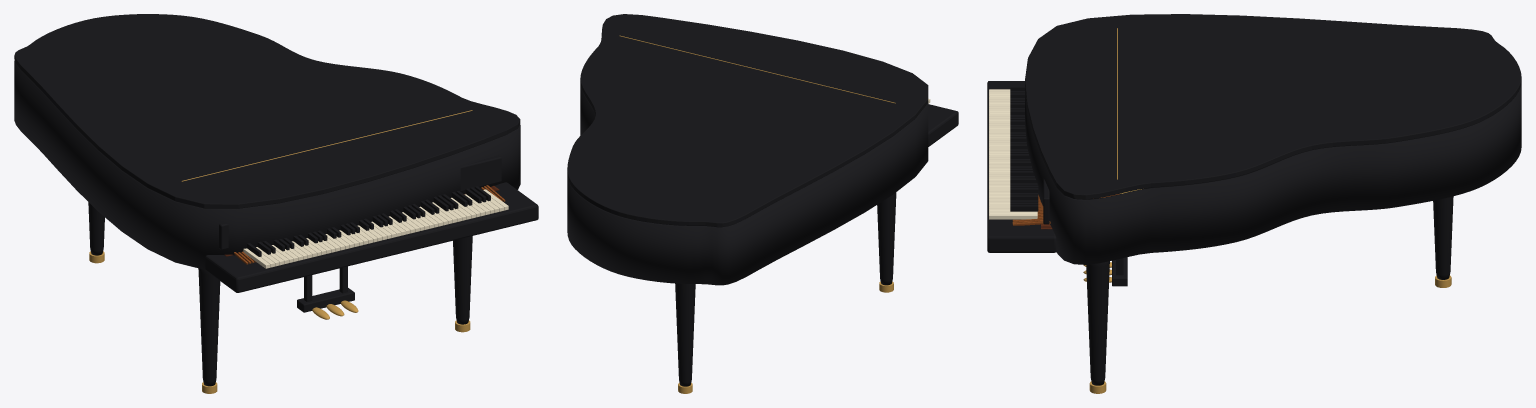
Rendered from 01_Grand_Piano.glb.
3 views of the same model, side by side, from view 1: azimuth 30°, elevation 25°; view 2: azimuth 150°, elevation 25°; view 3: azimuth 270°, elevation 25° (orthographic). The views are drawn at different scales.
Parts seen in each view (by area): view 1: 01_cabinet_and_closed_lid, 02_keyboard_and_exterior_fittings; view 2: 01_cabinet_and_closed_lid; view 3: 01_cabinet_and_closed_lid, 02_keyboard_and_exterior_fittings.
Part boxes in pixels (<box>): 01_cabinet_and_closed_lid: <box>14,14,538,393</box>; 02_keyboard_and_exterior_fittings: <box>243,186,508,268</box>; 01_cabinet_and_closed_lid: <box>567,14,958,393</box>; 01_cabinet_and_closed_lid: <box>987,14,1521,393</box>; 02_keyboard_and_exterior_fittings: <box>989,86,1038,219</box>.
Bounding box in the file's own units: 1.76 × 1 × 2.2.
13 materials, 3 textured.
